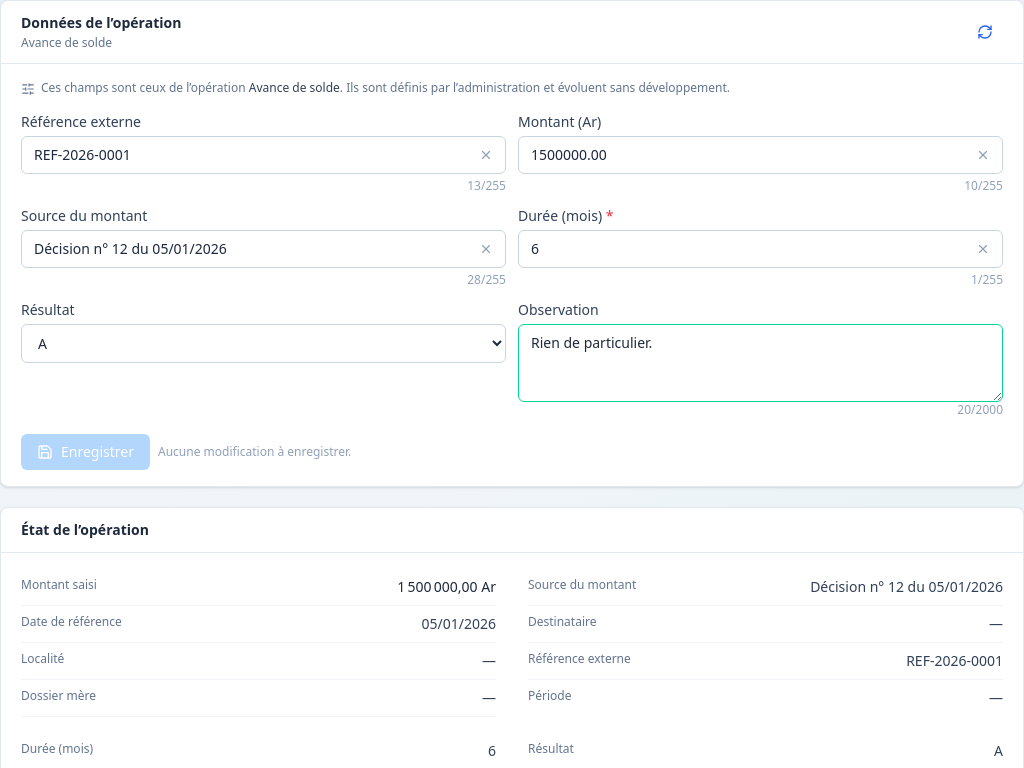
Test: Données de l’opération › n’active « Enregistrer » que si quelque chose a changé
Expected: the button "Enregistrer" is disabled, top-left (21, 434), bottom-right (150, 470)
Replace the text in the field labelled "Référence externe" with "REF-2026-0002" at (264, 155), box top-left (21, 136), bottom-right (506, 174)
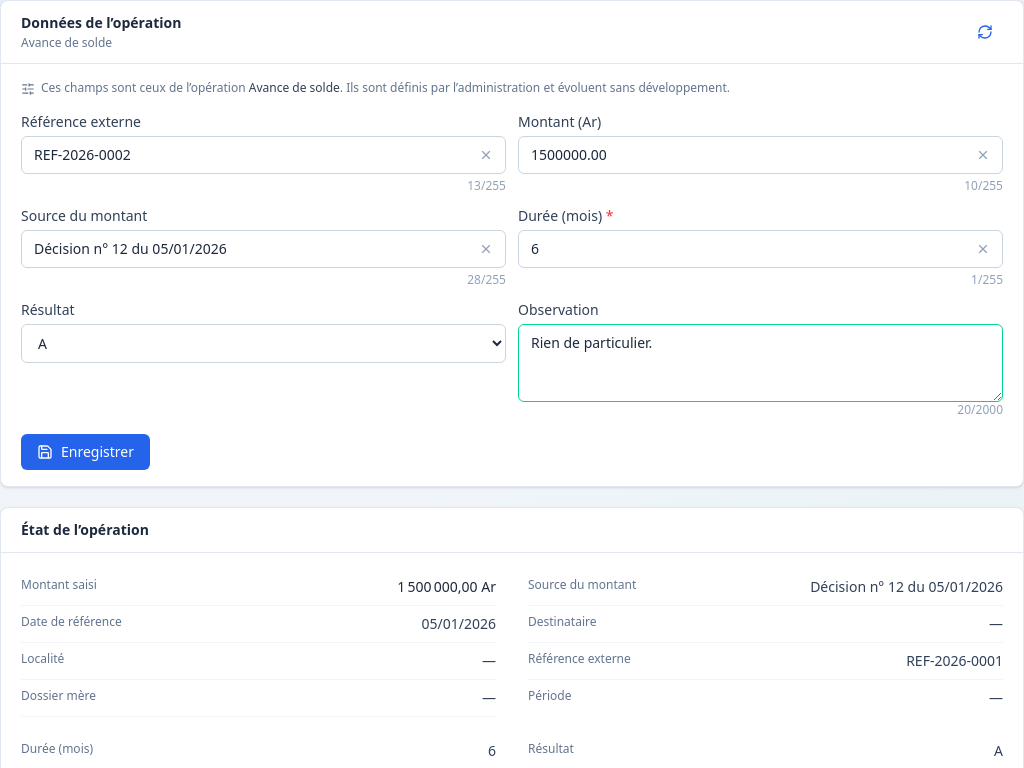
Expected: the button "Enregistrer" is enabled, top-left (21, 434), bottom-right (150, 470)
